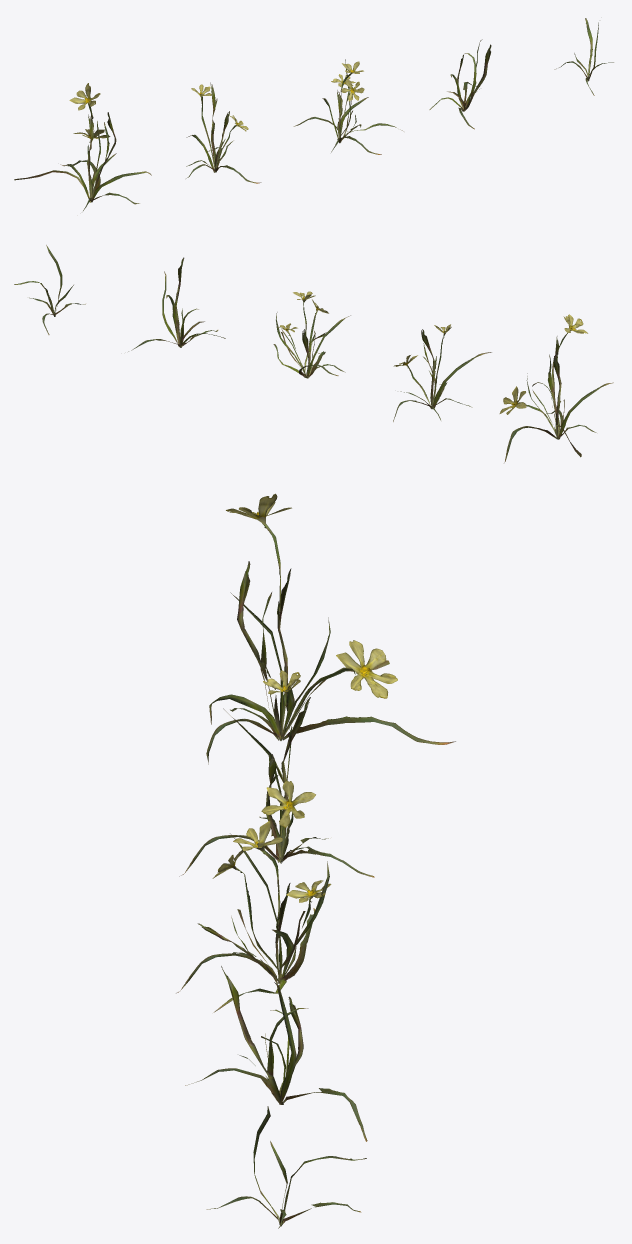
The model's file is flower_empodium.glb.
The picture shows the model from 3 angles, top to bottom: view 1: azimuth 30°, elevation 25°; view 2: azimuth 150°, elevation 25°; view 3: azimuth 270°, elevation 25°; orthographic projection. The views are drawn at different scales.
Parts seen in each view (by area): view 1: flower_empodium_a_LOD0, flower_empodium_c_LOD0, flower_empodium_b_LOD0, flower_empodium_d_LOD0, flower_empodium_e_LOD0; view 2: flower_empodium_a_LOD0, flower_empodium_c_LOD0, flower_empodium_b_LOD0, flower_empodium_d_LOD0, flower_empodium_e_LOD0; view 3: flower_empodium_a_LOD0, flower_empodium_c_LOD0, flower_empodium_b_LOD0, flower_empodium_d_LOD0, flower_empodium_e_LOD0.
Boxes of the visible parts, x1,y1,x2,y2 form: flower_empodium_a_LOD0: (14, 83, 151, 210); flower_empodium_c_LOD0: (293, 59, 403, 154); flower_empodium_b_LOD0: (186, 82, 261, 183); flower_empodium_d_LOD0: (429, 39, 491, 129); flower_empodium_e_LOD0: (554, 18, 613, 95); flower_empodium_a_LOD0: (499, 314, 613, 462); flower_empodium_c_LOD0: (273, 291, 350, 378); flower_empodium_b_LOD0: (393, 324, 491, 421); flower_empodium_d_LOD0: (128, 257, 225, 351); flower_empodium_e_LOD0: (14, 245, 85, 334); flower_empodium_a_LOD0: (206, 493, 455, 764); flower_empodium_c_LOD0: (176, 821, 331, 1012); flower_empodium_b_LOD0: (179, 670, 374, 877); flower_empodium_d_LOD0: (185, 966, 367, 1141); flower_empodium_e_LOD0: (206, 1106, 366, 1228).
Bounding box in the file's own units: 1.32 × 0.2683 × 0.2825.
Materials: 1 (1 with a texture image).
